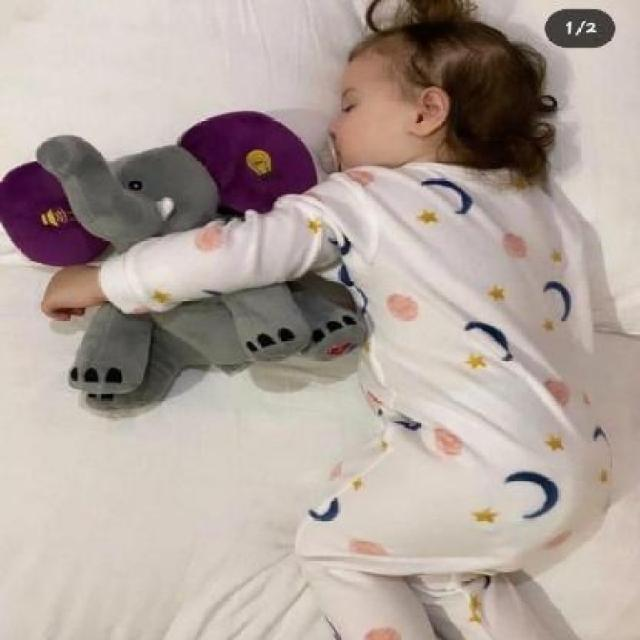baby: (43, 1, 612, 628)
